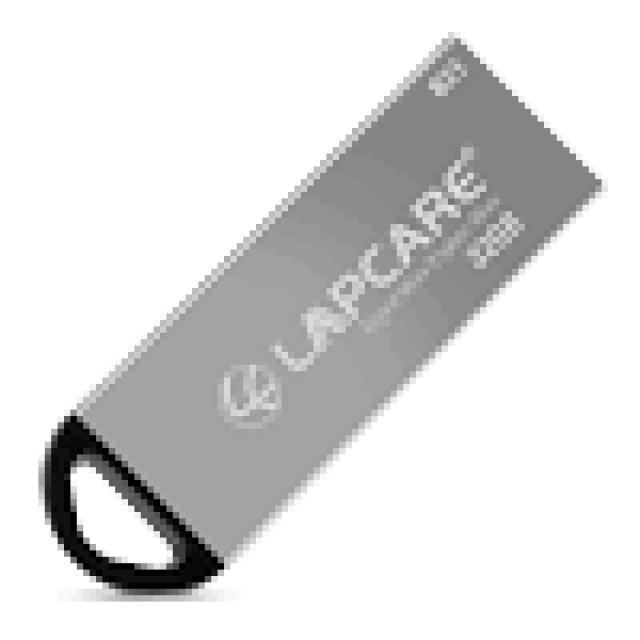hazard: (36, 33, 607, 592)
